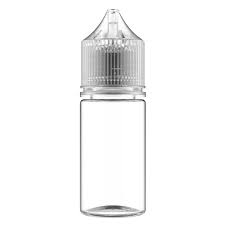available: (78, 6, 156, 225)
